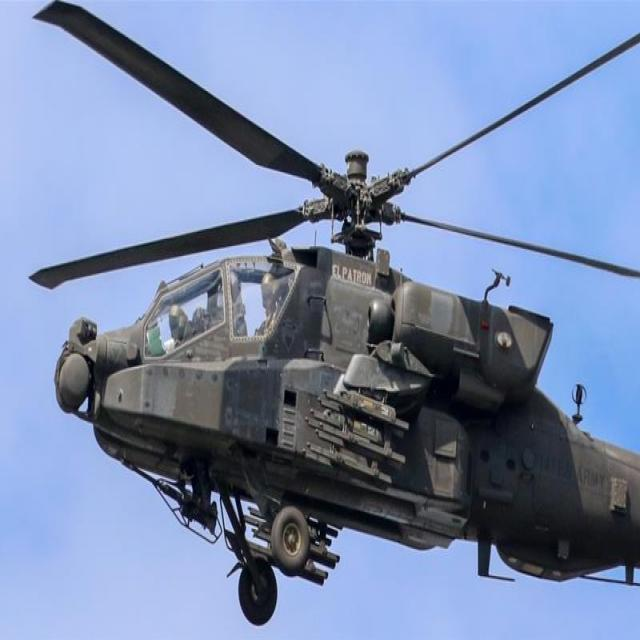helicopter: (25, 30, 622, 636)
